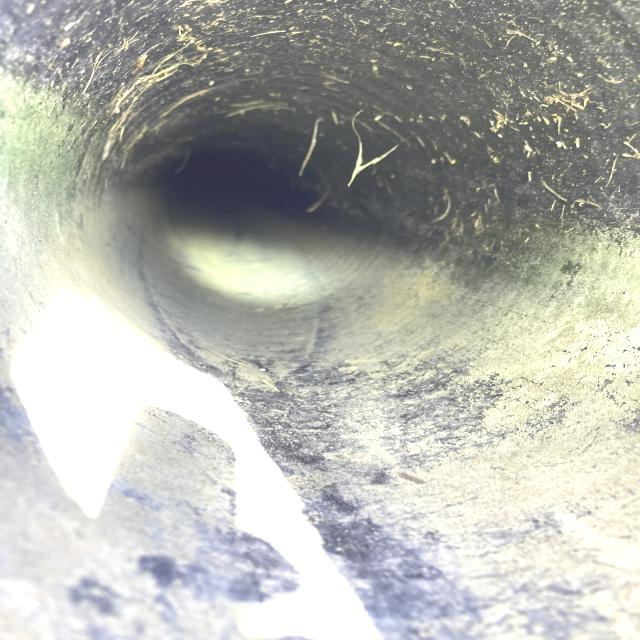root: (296, 110, 393, 188), (234, 91, 302, 124)
